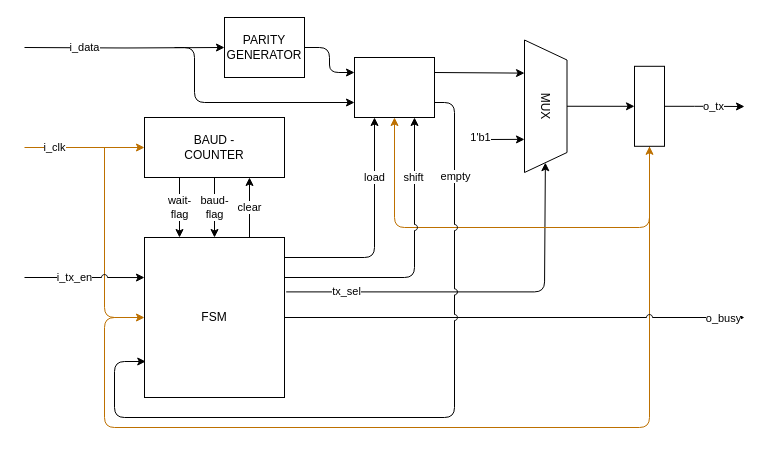
Some shapes in this 770 by 453 pixel diagram are drawn without their labels. The shapes that lost their labels are listed below. From the top down, each one's centre as x and y in pixels, then its label:
[394,87]: PISO
[649,105]: FF
